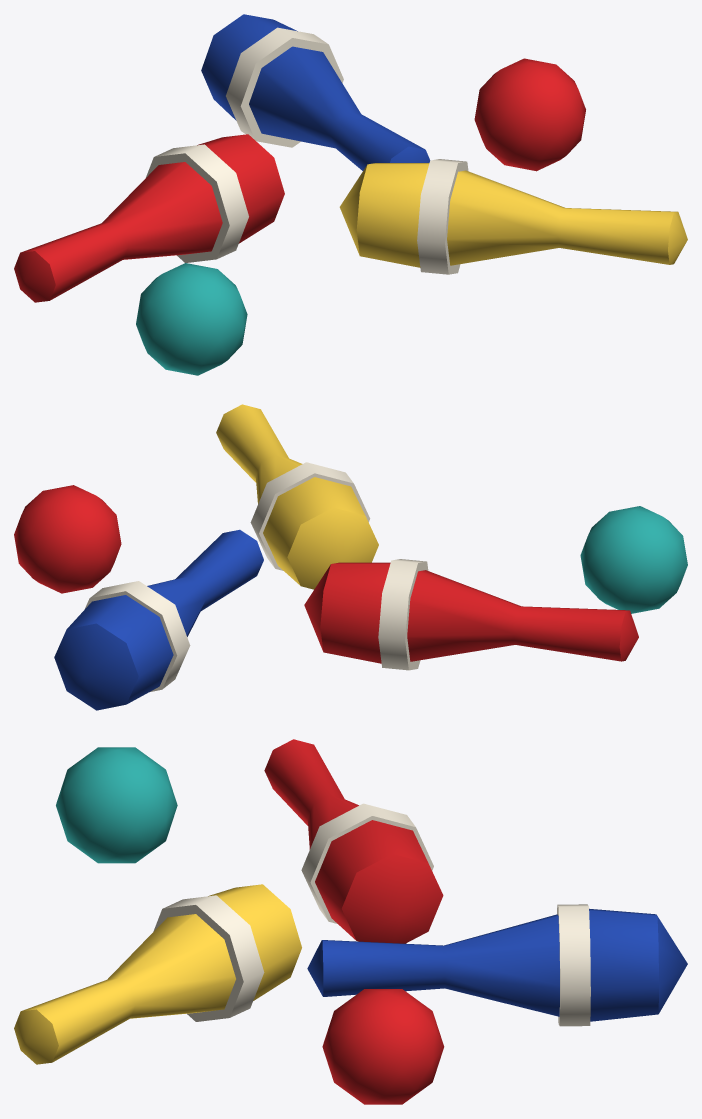
File: JugglingPins.fbx
The picture shows the model from 3 angles, top to bottom: view 1: azimuth 30°, elevation 25°; view 2: azimuth 150°, elevation 25°; view 3: azimuth 270°, elevation 25°; orthographic projection. The views are drawn at different scales.
Visible parts, largest first — view 1: JugglingPins; view 2: JugglingPins; view 3: JugglingPins.
Part boxes in pixels (bbox=[...]): JugglingPins: bbox=[14, 14, 687, 375]; JugglingPins: bbox=[14, 404, 687, 710]; JugglingPins: bbox=[14, 739, 687, 1104].
Bounding box in the file's own units: 0.9649 × 0.17 × 0.8847.
Materials: 1 (1 with a texture image).
